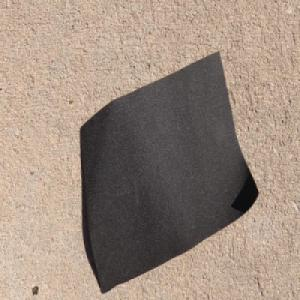PaintChip: (79, 48, 259, 294)
